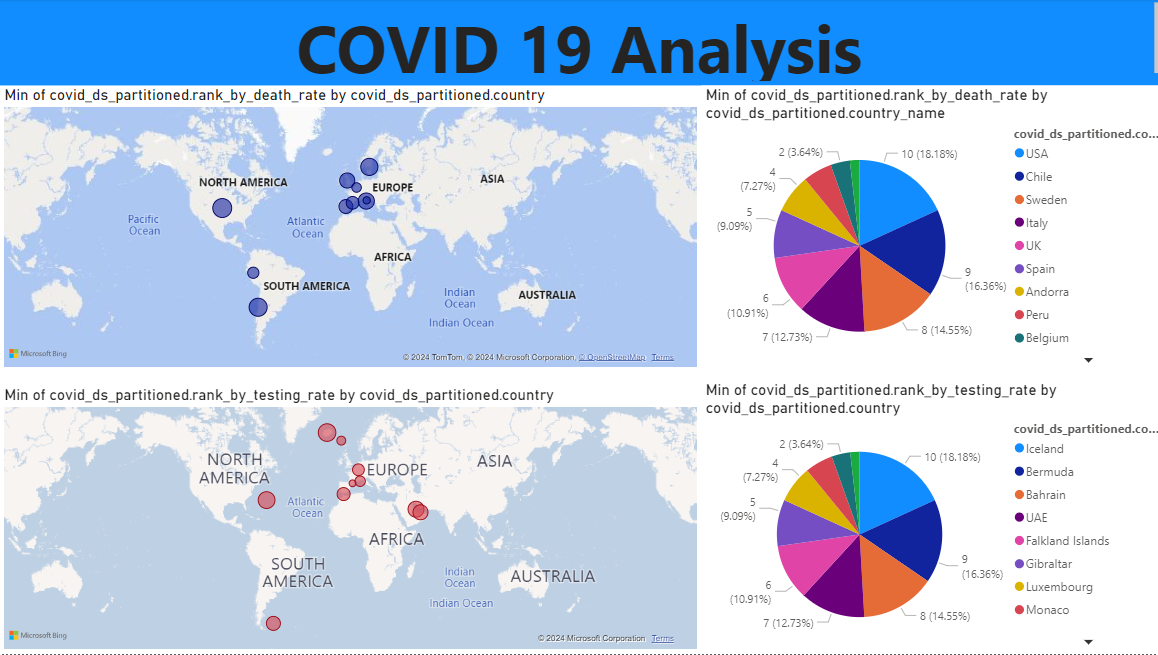

What the dashboard file says about the page in this screenshot:
{"tool":"powerbi","page":{"name":"Page 1","canvas":[1280,720],"ordinal":0},"visuals":[{"type":"map","fields":{"Category":["Sheet.covid_ds_partitioned.country"],"Size":["Min(Sheet.covid_ds_partitioned.rank_by_death_rate)"]},"box":[0,96,770,314],"z":0},{"type":"map","fields":{"Category":["Sheet.covid_ds_partitioned.country"],"Size":["Min(Sheet.covid_ds_partitioned.rank_by_testing_rate)"]},"box":[0,426,770,294],"z":1},{"type":"pieChart","fields":{"Category":["Sheet.covid_ds_partitioned.country"],"Y":["Min(Sheet.covid_ds_partitioned.rank_by_testing_rate)"]},"box":[770,420,510,300],"z":2},{"type":"textbox","box":[0,0,1280,96],"z":4},{"type":"pieChart","fields":{"Category":["Sheet.covid_ds_partitioned.country_name"],"Y":["Min(Sheet.covid_ds_partitioned.rank_by_death_rate)"]},"box":[770,96,510,314],"z":5}]}

Visuals, with their boxes in screenshot pixels (x1, y1, x2, y2), scaled from the page's 1280x720 canvas onto the 1158x655 screenshot:
map - Sheet.covid_ds_partitioned.country x Min(Sheet.covid_ds_partitioned.rank_by_death_rate): [x1=0, y1=87, x2=697, y2=373]
map - Sheet.covid_ds_partitioned.country x Min(Sheet.covid_ds_partitioned.rank_by_testing_rate): [x1=0, y1=388, x2=697, y2=654]
pieChart - Sheet.covid_ds_partitioned.country x Min(Sheet.covid_ds_partitioned.rank_by_testing_rate): [x1=697, y1=382, x2=1157, y2=654]
textbox: [x1=0, y1=0, x2=1157, y2=87]
pieChart - Sheet.covid_ds_partitioned.country_name x Min(Sheet.covid_ds_partitioned.rank_by_death_rate): [x1=697, y1=87, x2=1157, y2=373]
